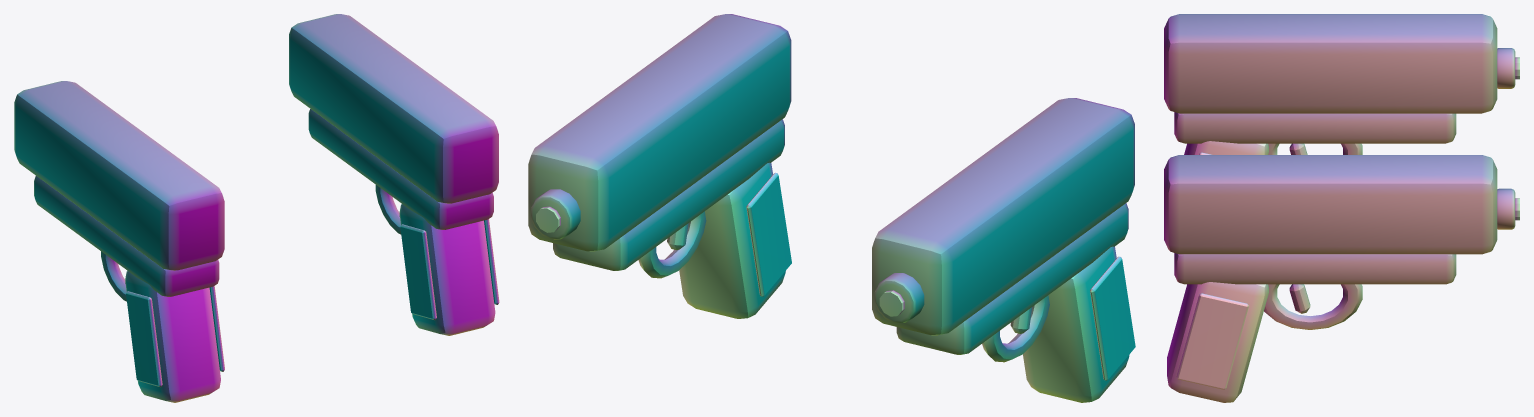
Rendered from wpn_dual.glb.
3 renders of one model, left to right at view 1: azimuth 30°, elevation 25°; view 2: azimuth 150°, elevation 25°; view 3: azimuth 270°, elevation 25°, orthographic. The views are drawn at different scales.
Visible parts, largest first — view 1: wpn_dual_mesh; view 2: wpn_dual_mesh; view 3: wpn_dual_mesh.
Part boxes in pixels (x1=…): wpn_dual_mesh: x1=14, y1=14, x2=499, y2=402; wpn_dual_mesh: x1=528, y1=14, x2=1135, y2=402; wpn_dual_mesh: x1=1164, y1=14, x2=1519, y2=402.
Bounding box in the file's own units: 0.1616 × 0.0983 × 0.1388.
